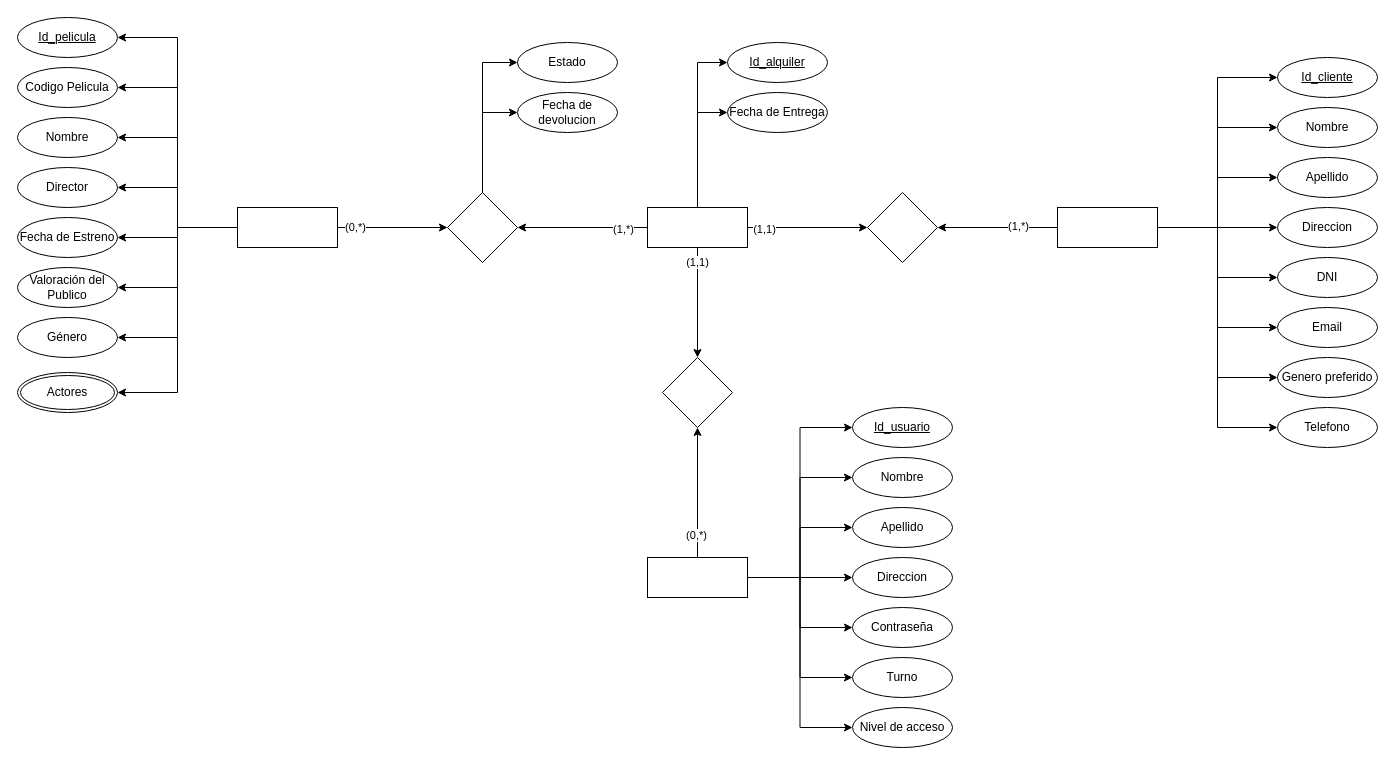
Image size: 1395x765. Some labels were removed from this diagram. Each missing label, with the box of its shape:
Alquiler: (646, 206, 748, 248)
Cliente: (1056, 206, 1158, 248)
Pelicula: (236, 206, 338, 248)
Usuario: (646, 556, 748, 598)
